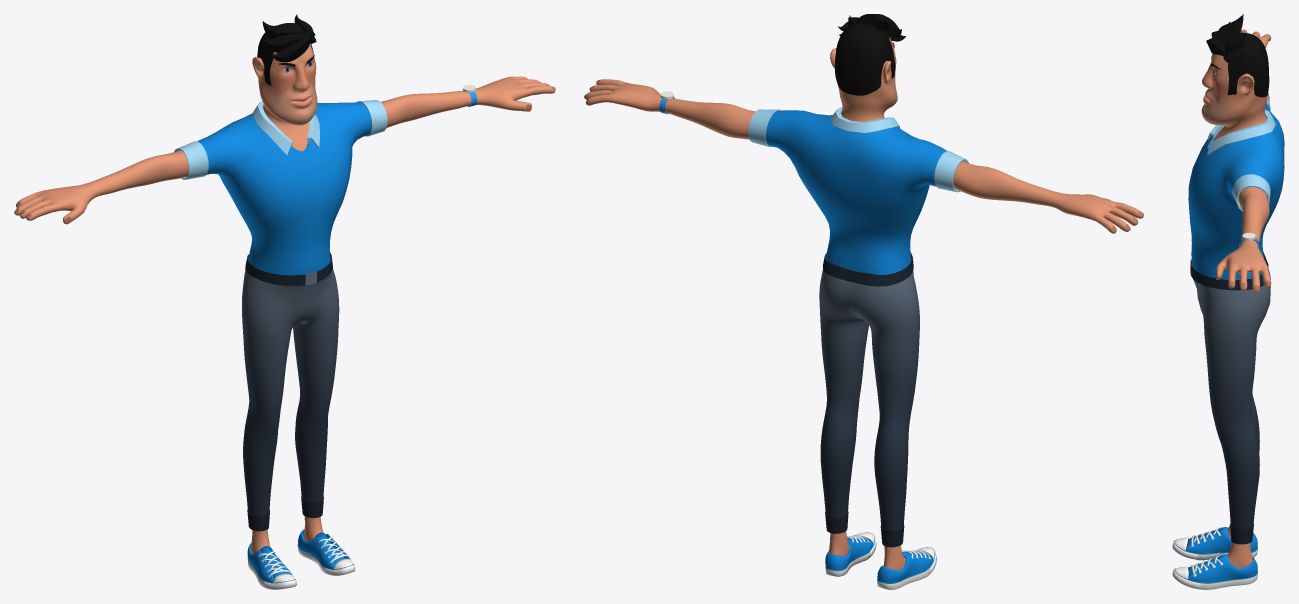
The model's file is terry.glb.
3 renders of one model, left to right at view 1: azimuth 30°, elevation 25°; view 2: azimuth 150°, elevation 25°; view 3: azimuth 270°, elevation 25°, orthographic. The views are drawn at different scales.
Parts seen in each view (by area): view 1: D_1, D_2, Body, Shoes, Hair; view 2: D_2, D_1, Body, Hair, Shoes; view 3: D_2, D_1, Body, Shoes, Hair.
Boxes of the visible parts, bbox=[...] form: D_1: bbox=[174, 100, 387, 275]; D_2: bbox=[242, 252, 339, 531]; Body: bbox=[14, 43, 555, 553]; Shoes: bbox=[247, 529, 355, 589]; Hair: bbox=[257, 14, 316, 85]; D_2: bbox=[819, 252, 919, 547]; D_1: bbox=[748, 107, 968, 274]; Body: bbox=[584, 37, 1143, 570]; Hair: bbox=[835, 14, 905, 95]; Shoes: bbox=[825, 532, 936, 589]; D_2: bbox=[1190, 252, 1270, 544]; D_1: bbox=[1188, 97, 1284, 279]; Body: bbox=[1201, 29, 1271, 568]; Shoes: bbox=[1172, 527, 1257, 589]; Hair: bbox=[1206, 14, 1269, 97].
Bounding box in the file's own units: 7.97 × 7.85 × 1.47.
3 materials, 3 textured.
